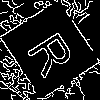R: (24, 25, 85, 80)
